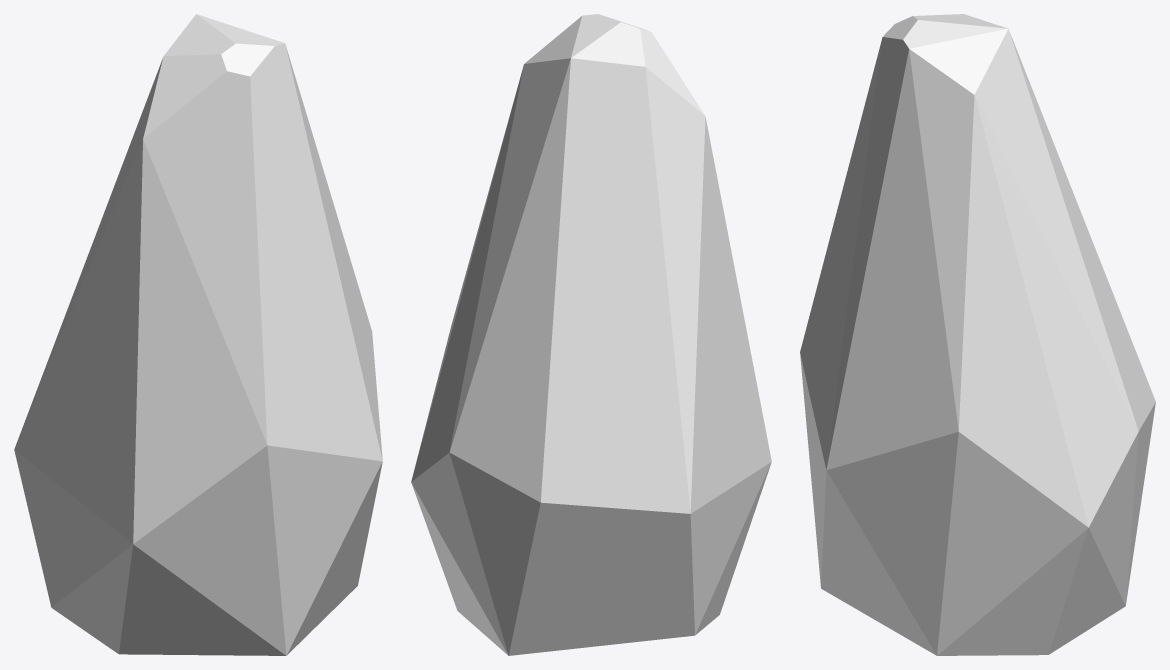
File: Thuja_BushTree_s_Snow_03_LOD.fbx
3 views of the same model, side by side, from view 1: azimuth 30°, elevation 25°; view 2: azimuth 150°, elevation 25°; view 3: azimuth 270°, elevation 25° (orthographic). The views are drawn at different scales.
Visible parts, largest first — view 1: Thuja_BushTree_s_Snow_03_LOD0; view 2: Thuja_BushTree_s_Snow_03_LOD0; view 3: Thuja_BushTree_s_Snow_03_LOD0.
Part boxes in pixels (bbox=[...]): Thuja_BushTree_s_Snow_03_LOD0: bbox=[14, 14, 382, 655]; Thuja_BushTree_s_Snow_03_LOD0: bbox=[411, 14, 771, 655]; Thuja_BushTree_s_Snow_03_LOD0: bbox=[800, 14, 1155, 655].
Size of what is drawn, in the model's own units: 103 by 198 by 106.
